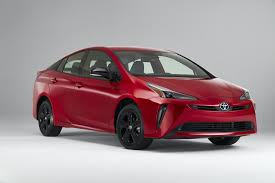Toyota: (38, 49, 255, 142)
